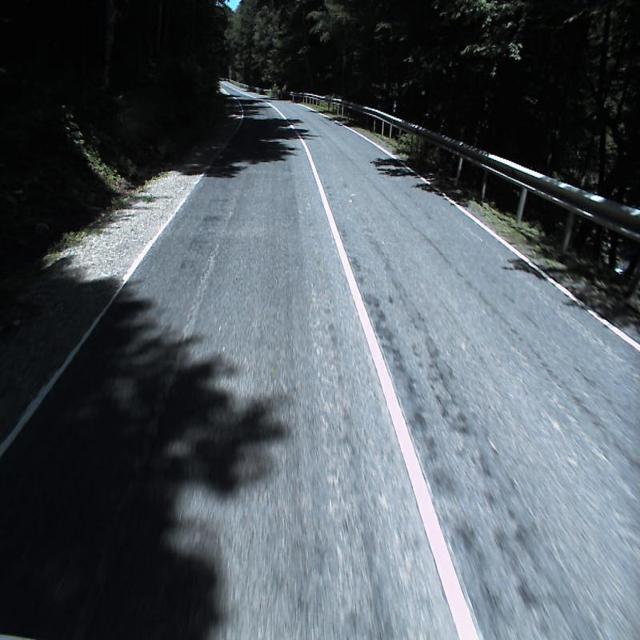road: (0, 82, 640, 639)
